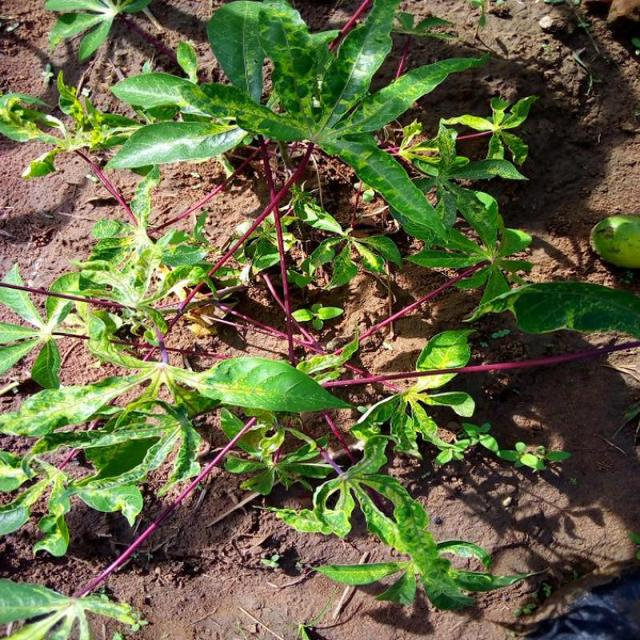cassava leaf: (194, 354, 352, 414), (105, 118, 249, 171), (414, 328, 472, 392), (589, 212, 639, 269)
